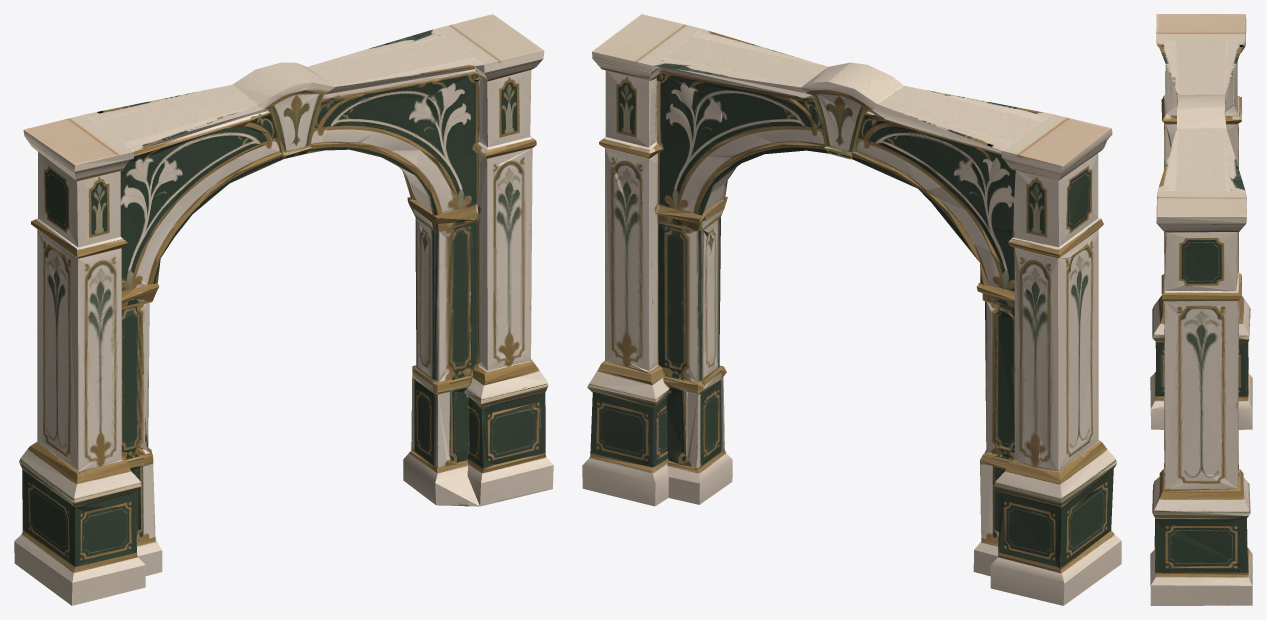
Rendered from item01.glb.
The picture shows the model from 3 angles, left to right: view 1: azimuth 30°, elevation 25°; view 2: azimuth 150°, elevation 25°; view 3: azimuth 270°, elevation 25°; orthographic projection. The views are drawn at different scales.
Parts seen in each view (by area): view 1: output_unwrapped; view 2: output_unwrapped; view 3: output_unwrapped.
Part boxes in pixels (x1=…): output_unwrapped: x1=14, y1=14, x2=553, y2=605; output_unwrapped: x1=582, y1=14, x2=1121, y2=605; output_unwrapped: x1=1150, y1=14, x2=1252, y2=605.
Bounding box in the file's own units: 1 × 0.8975 × 0.208.
Materials: 1 (1 with a texture image).
